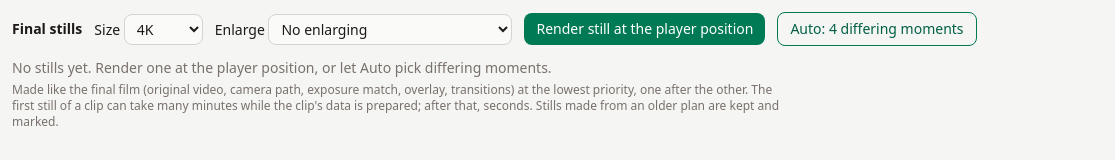
Test: shows what went wrong when the request is refused
What coordinates should you click on to do the following:
click the button "Render still at the player position"
I would click on:
 (645, 29)
Its box is [524,13,765,45].
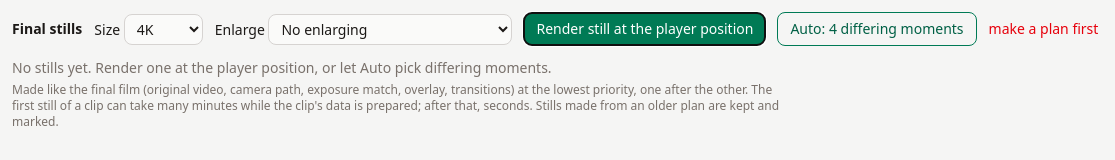
Expected: the text "make a plan first" is shown, [989,19,1098,39]
